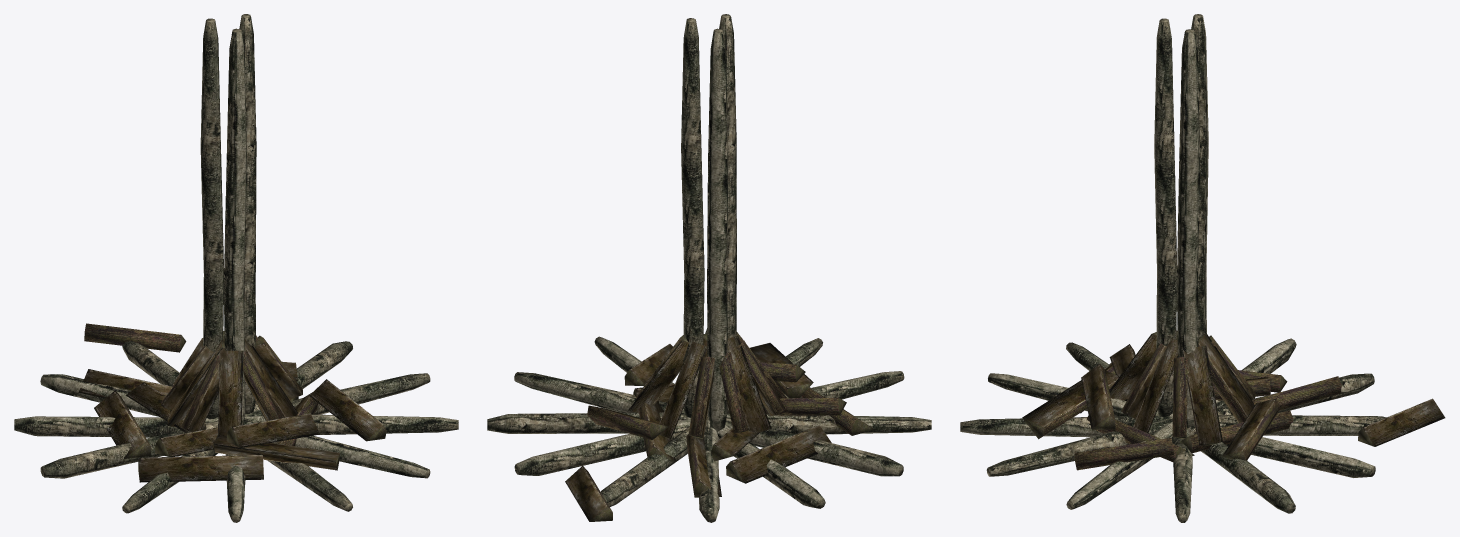
Rendered from KM_VOB_WOODPILE_01.glb.
3 renders of one model, left to right at view 1: azimuth 30°, elevation 25°; view 2: azimuth 150°, elevation 25°; view 3: azimuth 270°, elevation 25°, orthographic.
Parts seen in each view (by area): view 1: Mesh; view 2: Mesh; view 3: Mesh.
Part boxes in pixels (left/top/right/bottom): Mesh: left=14, top=14, right=458, bottom=522; Mesh: left=487, top=14, right=931, bottom=522; Mesh: left=960, top=14, right=1445, bottom=522.
Size of the model in its own units: 2.92 by 3.01 by 3.2.
Materials: 4 (4 with a texture image).
